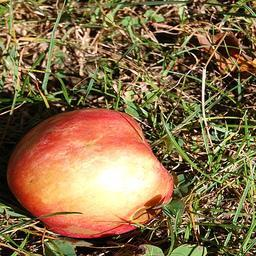apple: (5, 108, 176, 237)
